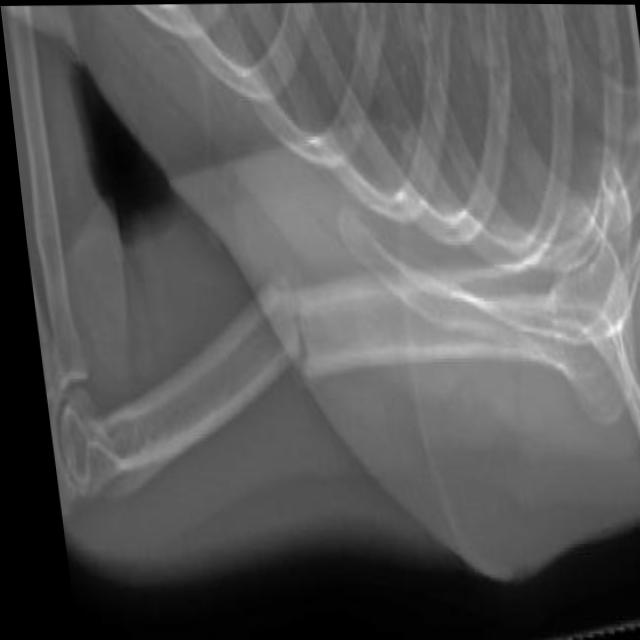fracture: (244, 244, 324, 416)
